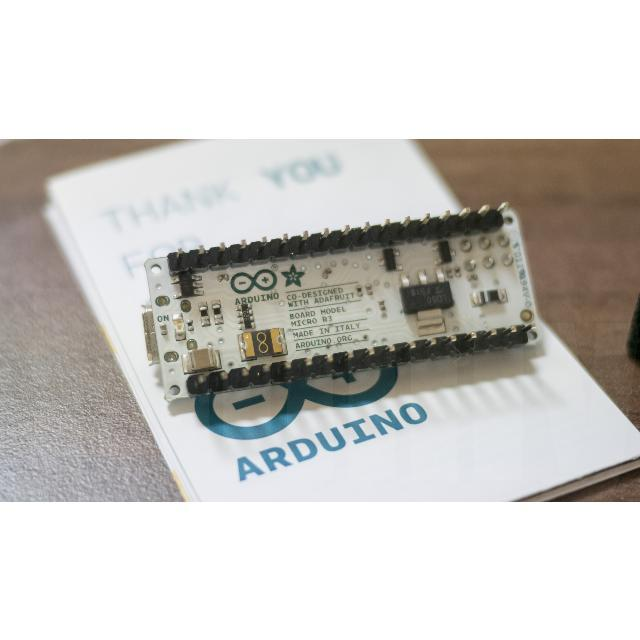Arduino-Micro: (143, 206, 537, 399)
